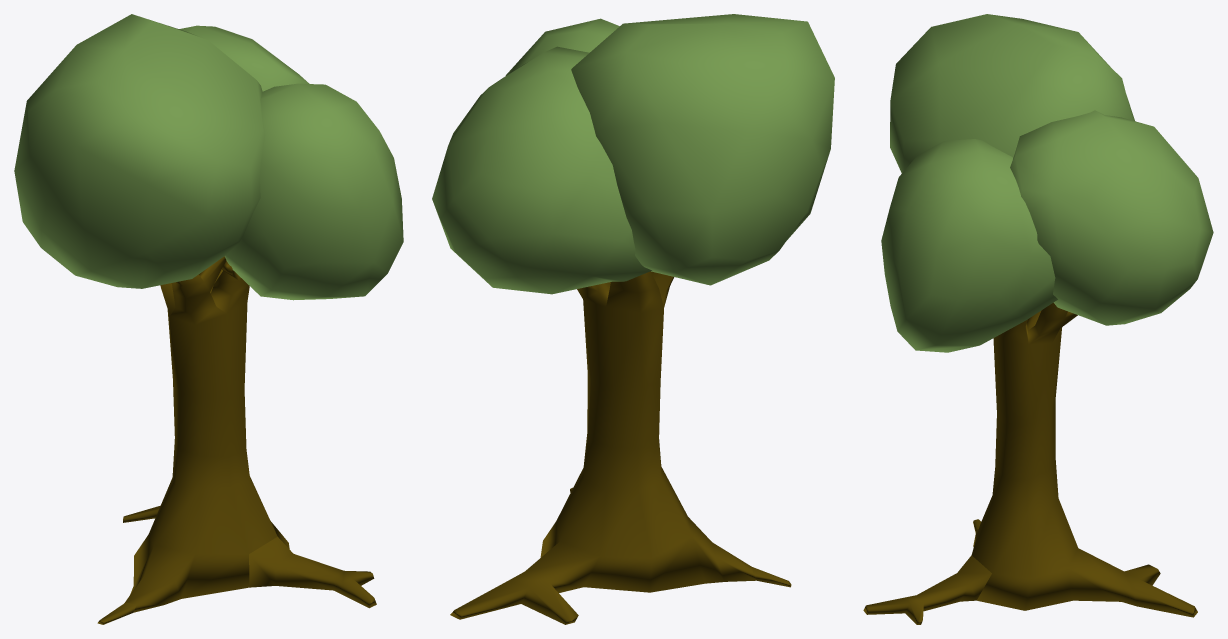
File: treeExport.fbx
3 views of the same model, side by side, from view 1: azimuth 30°, elevation 25°; view 2: azimuth 150°, elevation 25°; view 3: azimuth 270°, elevation 25° (orthographic). The views are drawn at different scales.
Parts seen in each view (by area): view 1: pPlatonic3, trunk_mesh, pPlatonic2, pPlatonic1; view 2: pPlatonic3, trunk_mesh, pPlatonic1, pPlatonic2; view 3: pPlatonic1, trunk_mesh, pPlatonic2, pPlatonic3.
Boxes of the visible parts, box(x1,y1,x2,y2) form: pPlatonic3: box(14, 14, 265, 288); trunk_mesh: box(97, 256, 376, 624); pPlatonic2: box(224, 83, 403, 300); pPlatonic1: box(179, 25, 309, 91); pPlatonic3: box(571, 14, 834, 285); trunk_mesh: box(450, 271, 791, 624); pPlatonic1: box(432, 46, 651, 294); pPlatonic2: box(505, 18, 619, 75); pPlatonic1: box(1010, 110, 1213, 325); trunk_mesh: box(863, 302, 1197, 624); pPlatonic2: box(881, 139, 1057, 352); pPlatonic3: box(890, 14, 1134, 173).
Bounding box in the file's own units: 1984 × 3227 × 1968.
